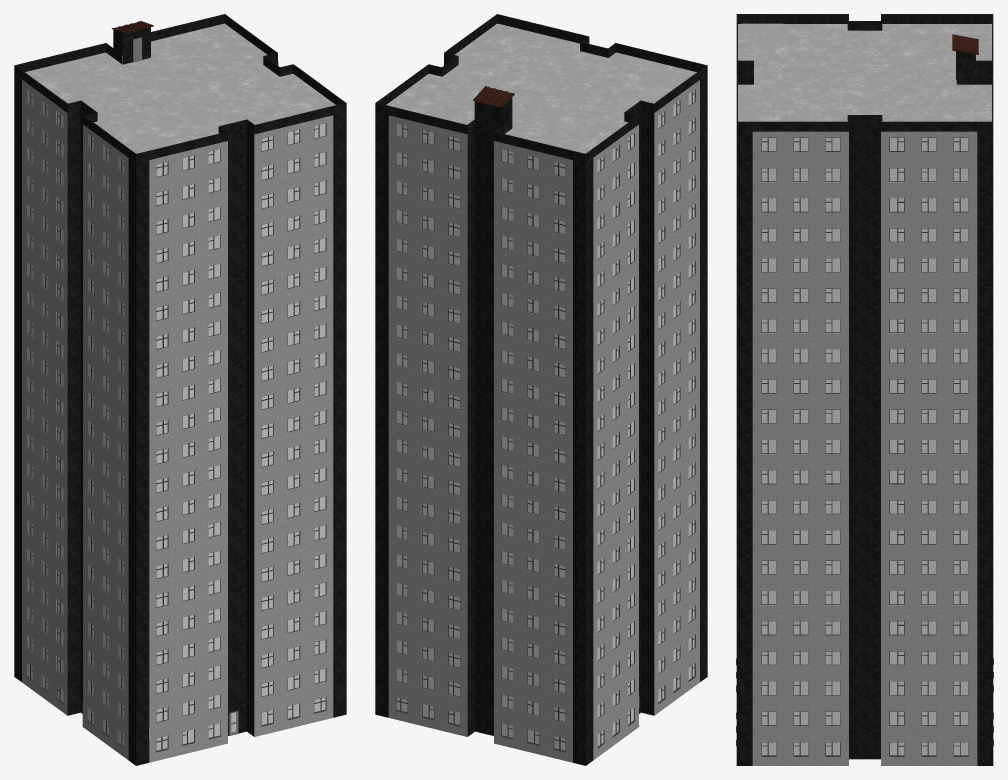
File: mainBuildingTest2.fbx
3 views of the same model, side by side, from view 1: azimuth 30°, elevation 25°; view 2: azimuth 150°, elevation 25°; view 3: azimuth 270°, elevation 25° (orthographic). The views are drawn at different scales.
Visible parts, largest first — view 1: Building; view 2: Building; view 3: Building.
Boxes of the visible parts, x1=… form: Building: x1=14, y1=14, x2=346, y2=765; Building: x1=375, y1=14, x2=707, y2=765; Building: x1=736, y1=14, x2=993, y2=765.
Size of the model in its own units: 2007 by 5770 by 2012.
